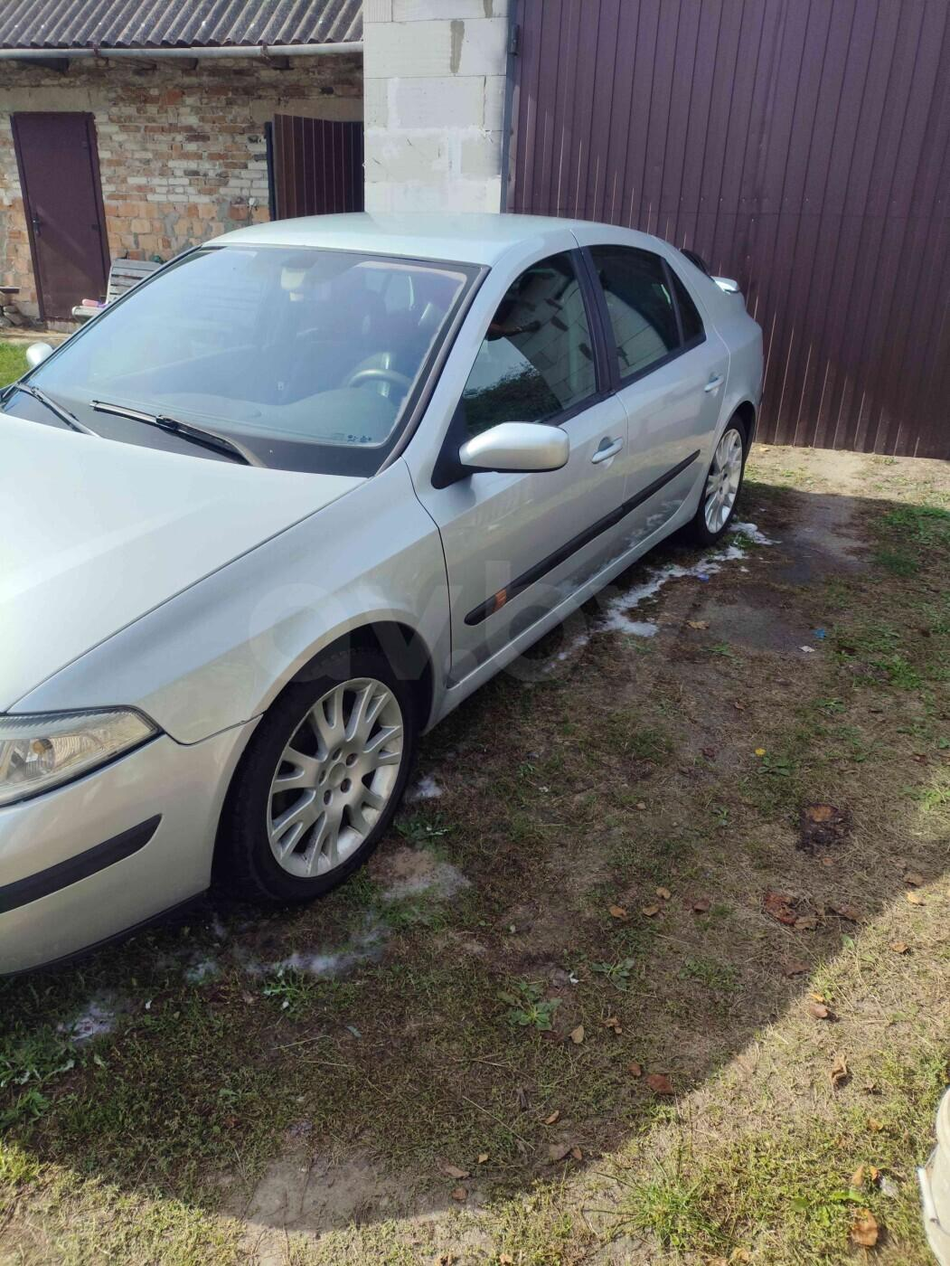Laguna_2001-2005: (0, 213, 763, 973)
